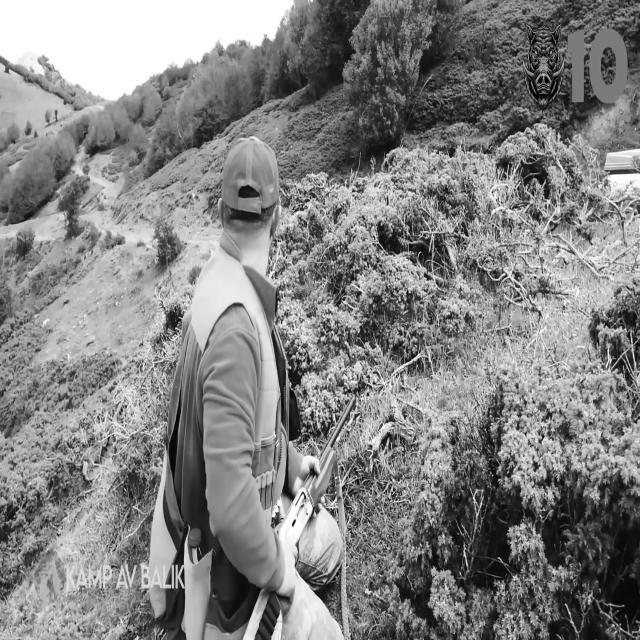boar: (522, 23, 563, 109)
monkey: (149, 136, 342, 638)
